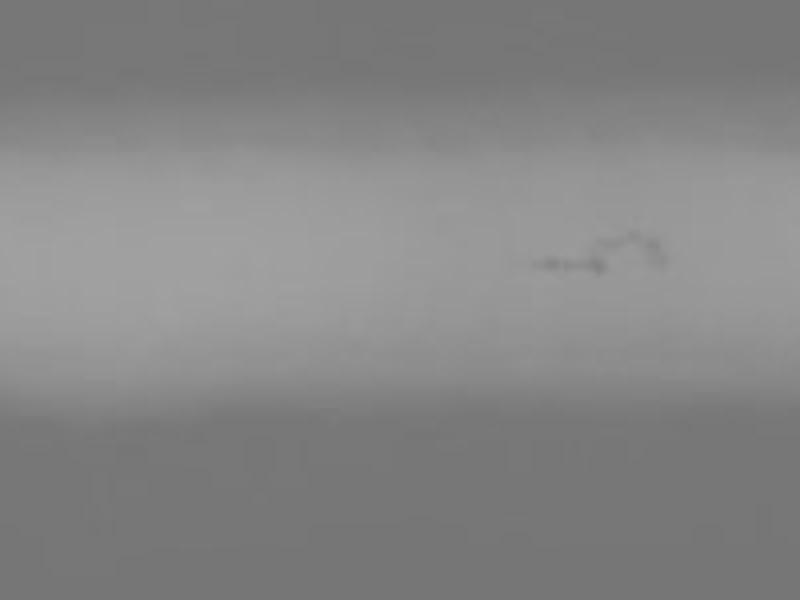defect: (584, 251, 610, 280), (595, 228, 615, 251), (625, 225, 644, 244), (560, 255, 580, 273), (535, 254, 556, 271), (644, 235, 663, 250)
